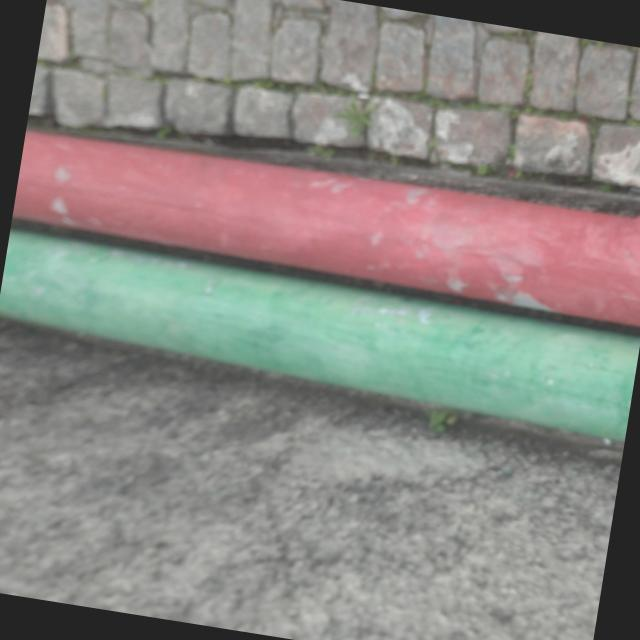gas: (0, 227, 640, 448), (12, 110, 640, 320)
